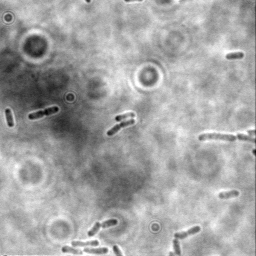Dividing: (105, 117, 137, 138), (27, 104, 61, 122), (174, 224, 203, 241), (70, 238, 101, 249)
Rod: (198, 130, 239, 144), (216, 188, 243, 201), (4, 106, 17, 130), (86, 220, 103, 238), (60, 244, 84, 255), (170, 236, 183, 255), (83, 246, 110, 255), (99, 218, 120, 229), (224, 51, 245, 62)
